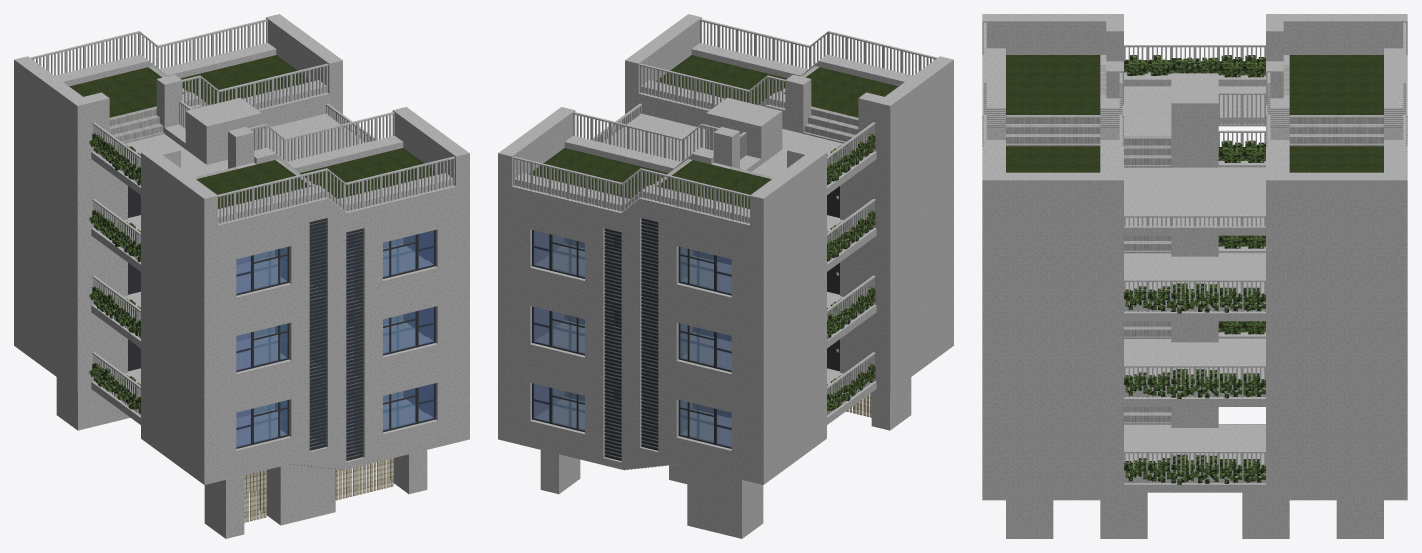
Rendered from villa_12room.obj.
3 views of the same model, side by side, from view 1: azimuth 30°, elevation 25°; view 2: azimuth 150°, elevation 25°; view 3: azimuth 270°, elevation 25° (orthographic). The views are drawn at different scales.
Parts seen in each view (by area): view 1: minecraft_concrete_white_-1, minecraft_concrete_gray_-1, minecraft_glass_cyan_-1, minecraft_grass_top_-1, minecraft_glass_blue_-1, minecraft_planks_birch_-1, minecraft_stone_diorite_smooth_-1, minecraft_leaves_oakminecraft_leaves_oak_extminecraft_leaves_oak, minecraft_leaves_oak_-13; view 2: minecraft_concrete_white_-1, minecraft_concrete_gray_-1, minecraft_glass_cyan_-1, minecraft_grass_top_-1, minecraft_glass_blue_-1, minecraft_stone_diorite_smooth_-1, minecraft_leaves_oakminecraft_leaves_oak_extminecraft_leaves_oak, minecraft_leaves_oak_-13; view 3: minecraft_concrete_white_-1, minecraft_grass_top_-1, minecraft_stone_diorite_smooth_-1, minecraft_leaves_oak_-13, minecraft_leaves_oak_-126, minecraft_leaves_oak_-11, minecraft_leaves_oak_-110, minecraft_leaves_oak_-119, minecraft_leaves_oak_-116, minecraft_leaves_oak_-115, minecraft_leaves_oak_-19, minecraft_leaves_oak_-10 (+1 smaller).
Boxes of the visible parts, <box> form: minecraft_concrete_white_-1: <box>14,14,469,538</box>; minecraft_concrete_gray_-1: <box>128,186,435,460</box>; minecraft_glass_cyan_-1: <box>236,220,433,457</box>; minecraft_grass_top_-1: <box>69,55,438,208</box>; minecraft_glass_blue_-1: <box>236,225,434,457</box>; minecraft_planks_birch_-1: <box>244,458,393,522</box>; minecraft_stone_diorite_smooth_-1: <box>109,66,314,185</box>; minecraft_leaves_oakminecraft_leaves_oak_extminecraft_leaves_oak: <box>90,136,140,413</box>; minecraft_leaves_oak_-13: <box>89,134,140,413</box>; minecraft_concrete_white_-1: <box>498,14,953,538</box>; minecraft_concrete_gray_-1: <box>532,186,839,460</box>; minecraft_glass_cyan_-1: <box>534,221,731,457</box>; minecraft_grass_top_-1: <box>529,55,898,208</box>; minecraft_glass_blue_-1: <box>533,225,731,457</box>; minecraft_stone_diorite_smooth_-1: <box>653,66,858,185</box>; minecraft_leaves_oakminecraft_leaves_oak_extminecraft_leaves_oak: <box>827,135,874,410</box>; minecraft_leaves_oak_-13: <box>827,140,875,408</box>; minecraft_concrete_white_-1: <box>982,14,1407,538</box>; minecraft_grass_top_-1: <box>1006,55,1383,172</box>; minecraft_stone_diorite_smooth_-1: <box>1006,65,1383,424</box>; minecraft_leaves_oak_-13: <box>1124,55,1265,483</box>; minecraft_leaves_oak_-126: <box>1124,56,1265,483</box>; minecraft_leaves_oak_-11: <box>1124,55,1265,480</box>; minecraft_leaves_oak_-110: <box>1124,55,1265,481</box>; minecraft_leaves_oak_-119: <box>1124,55,1265,479</box>; minecraft_leaves_oak_-116: <box>1125,57,1265,479</box>; minecraft_leaves_oak_-115: <box>1124,58,1265,476</box>; minecraft_leaves_oak_-19: <box>1124,55,1264,484</box>; minecraft_leaves_oak_-10: <box>1218,55,1265,333</box>.
Size of the model in its own units: 14.5 by 18.56 by 18.
